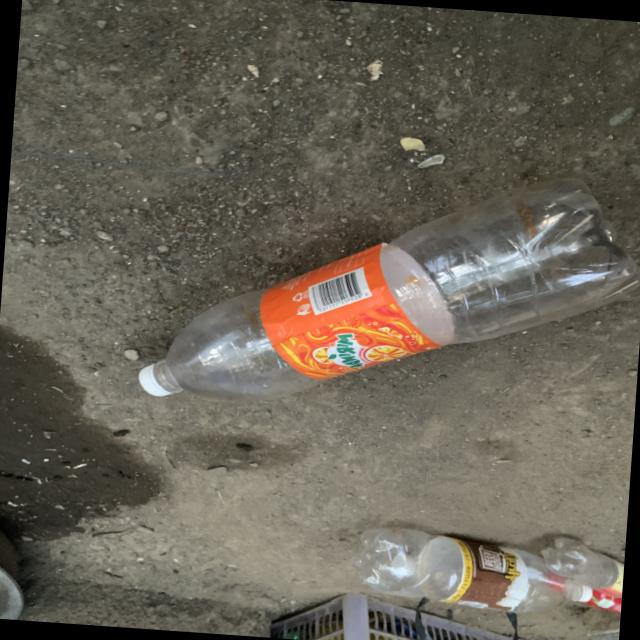Bottle: (138, 178, 640, 400)
